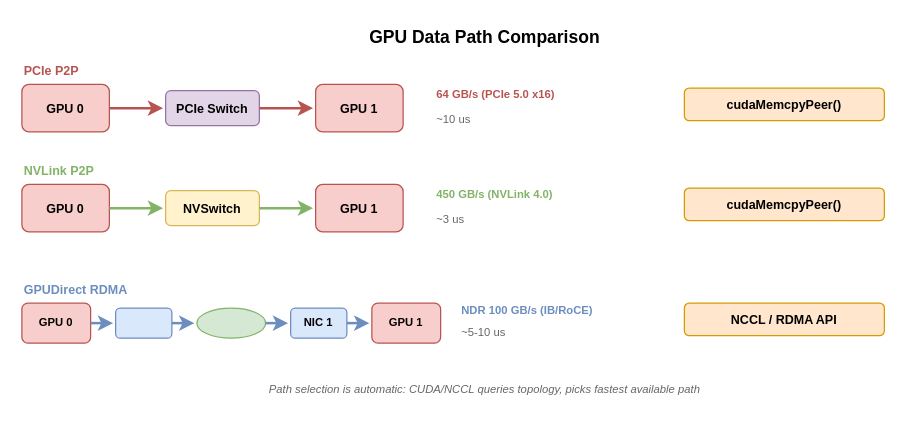
This 906x421 diagram has some shape labels left out. The shapes that lost their labels are listed below. From the top down, each one's centre as x and y in pixels, then its label:
At point (143, 322): "NIC 0".
At point (231, 322): "IB Net".
